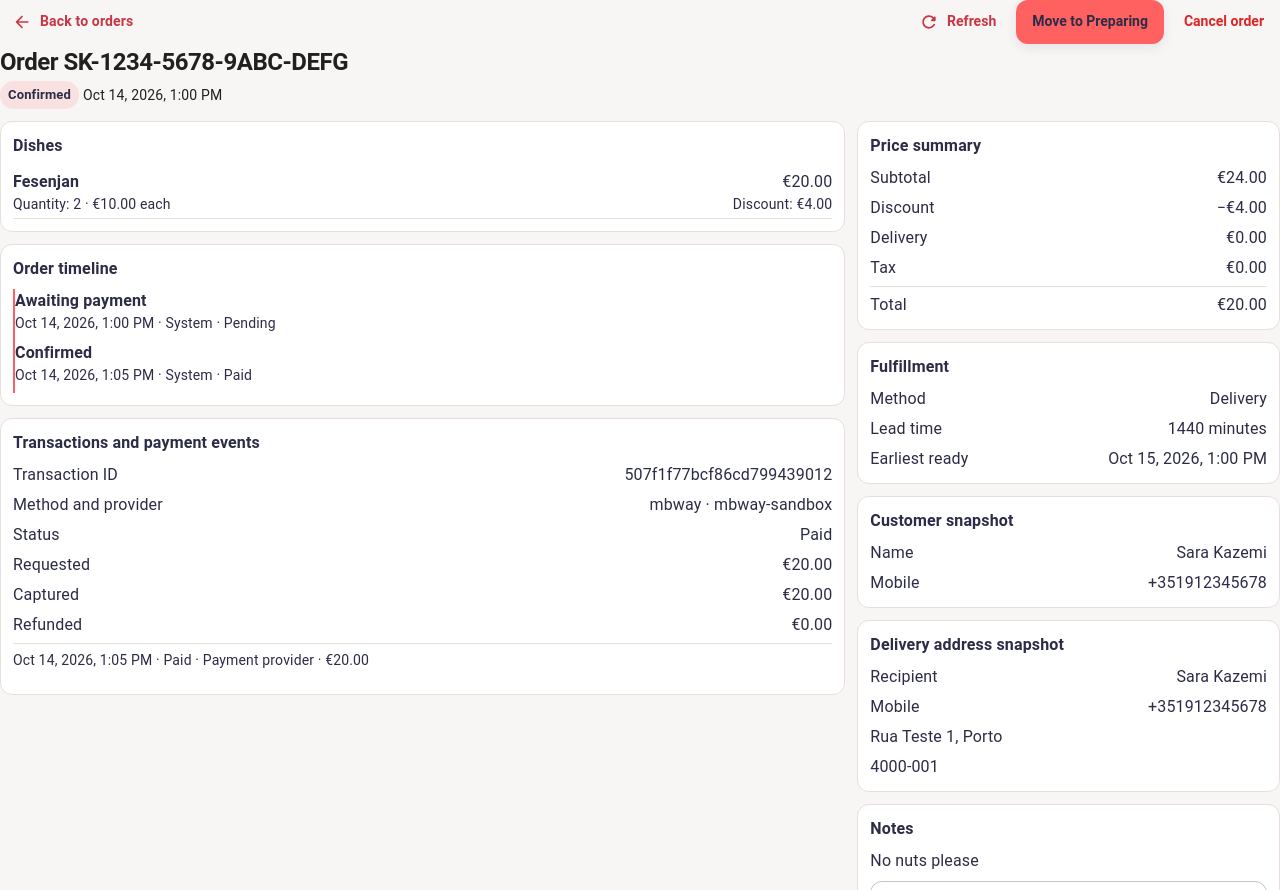
Test case: order details dashboard › requires confirmation before a valid next status action
The image size is (1280, 890).
Click the button "Move to Preparing": (1090, 22) [1016, 0, 1164, 44]
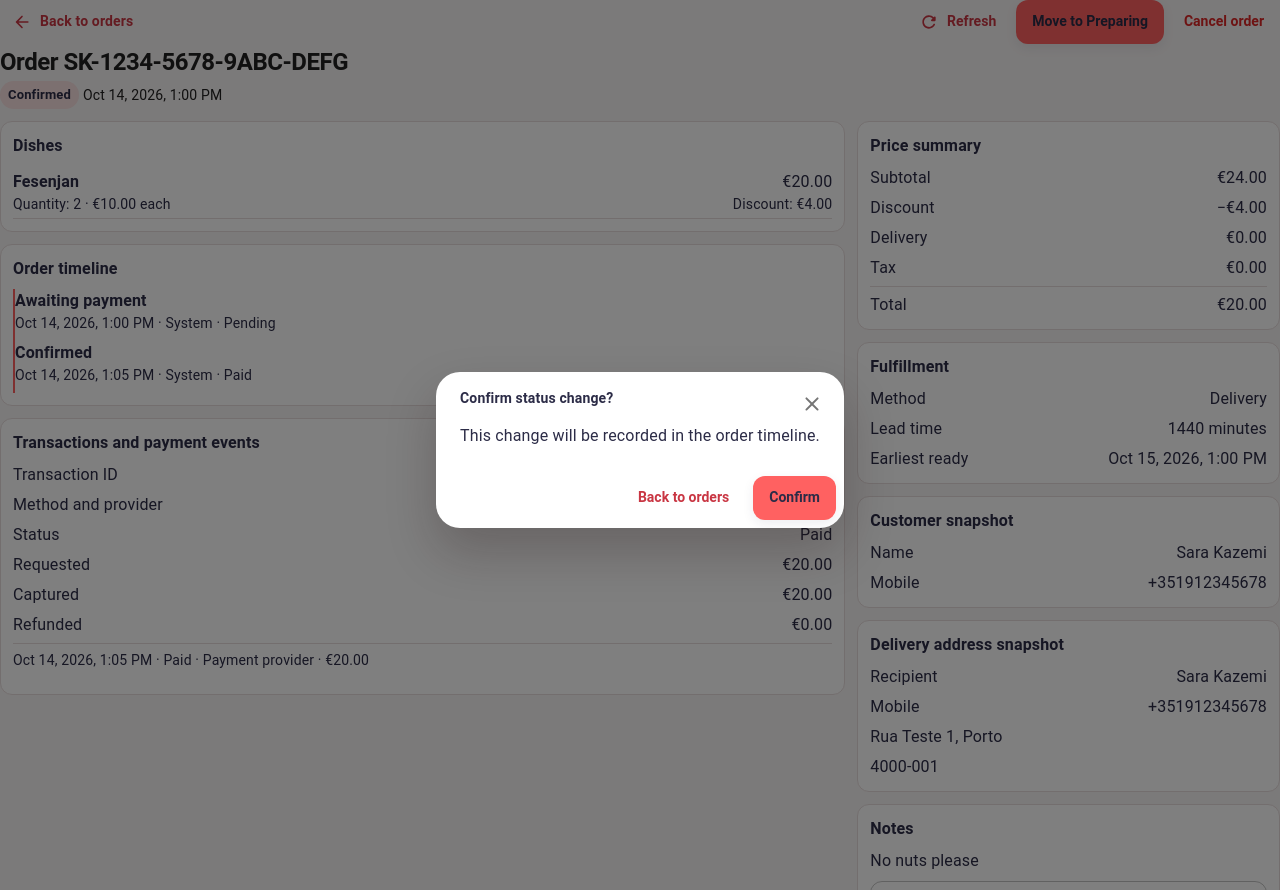
Expected: the text "This change will be recorded in the order timeline." is shown, [460, 424, 820, 448]
